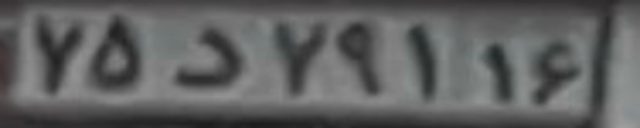1: (406, 22, 438, 97), (481, 41, 512, 101)
5: (88, 14, 145, 86)
6: (534, 42, 583, 104)
7: (269, 18, 325, 97), (30, 14, 81, 96)
9: (335, 20, 384, 94)
dal: (170, 29, 246, 82)
